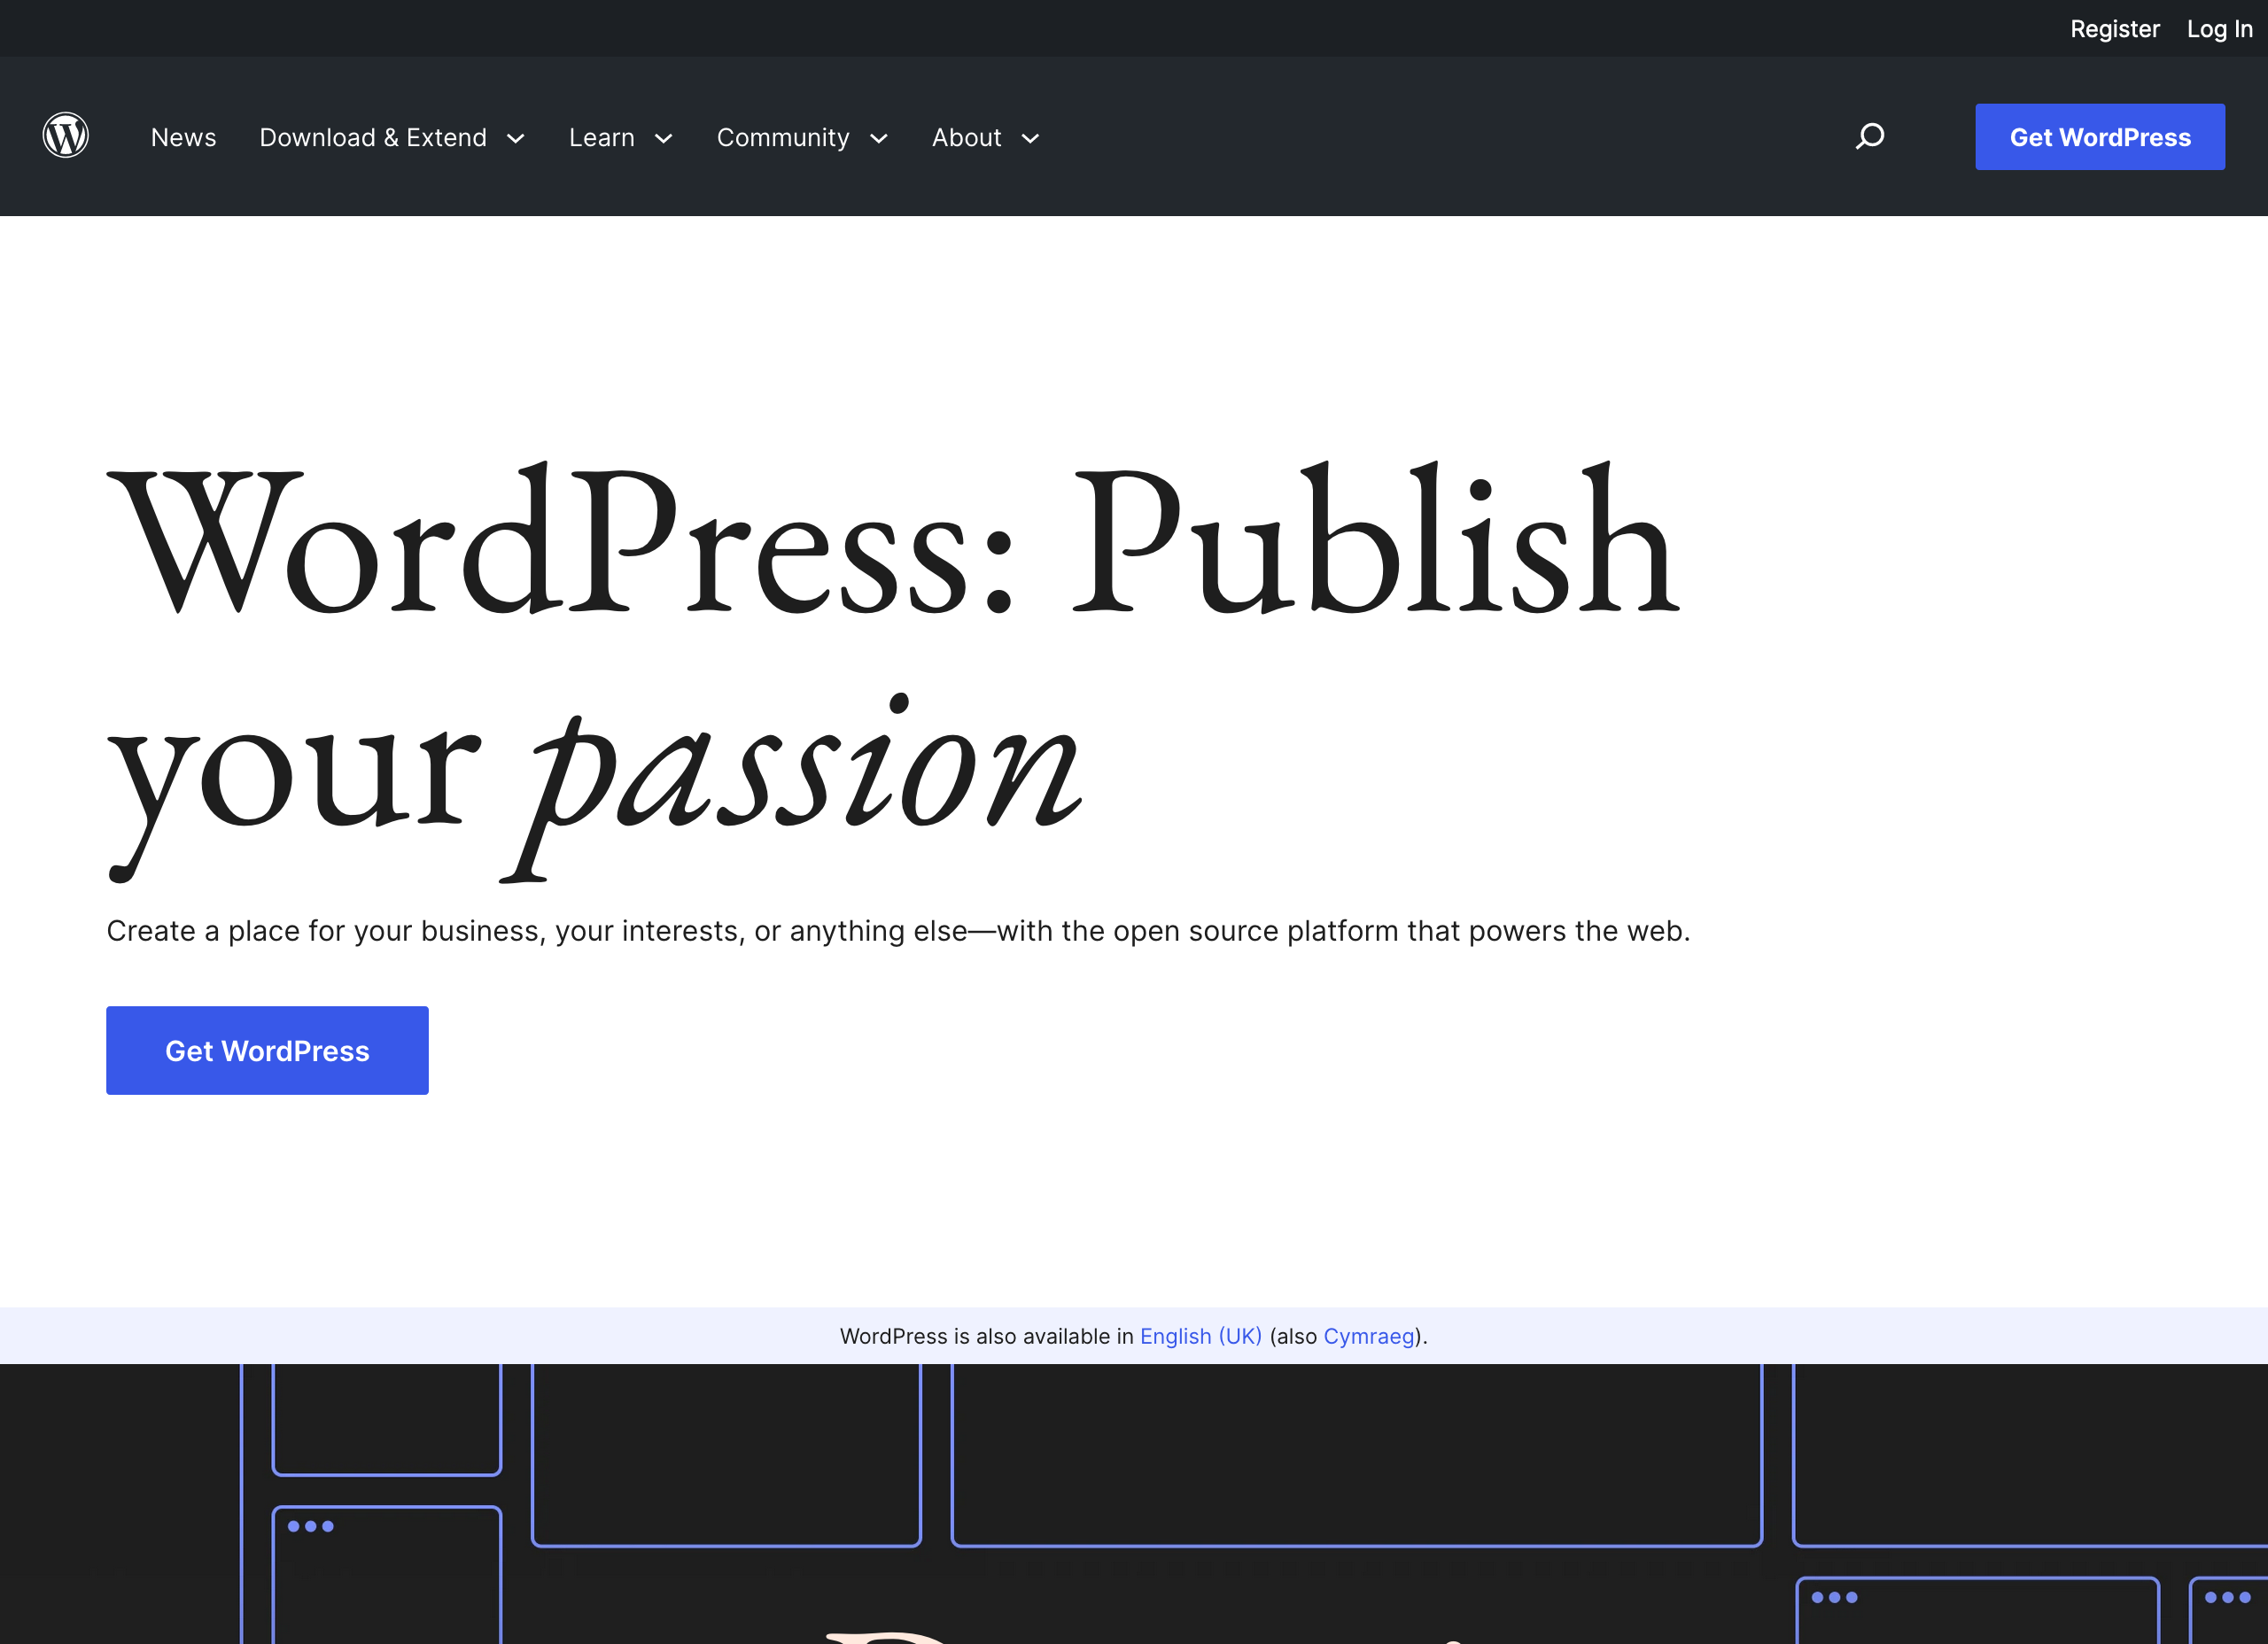Login: (2185, 11, 2264, 48)
